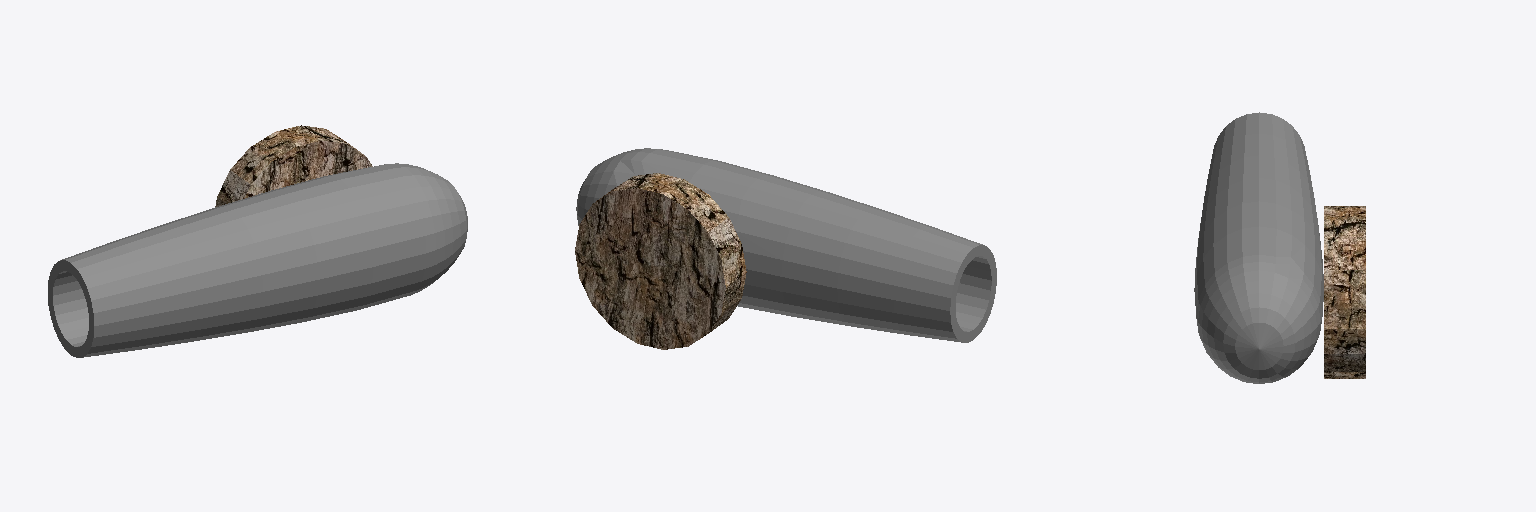
3 views of the same model, side by side, from view 1: azimuth 30°, elevation 25°; view 2: azimuth 150°, elevation 25°; view 3: azimuth 270°, elevation 25° (orthographic).
Parts seen in each view (by area): view 1: Cannon, Base; view 2: Cannon, Base; view 3: Cannon, Base.
Part boxes in pixels (bbox=[...]): Cannon: bbox=[48, 163, 467, 357]; Base: bbox=[215, 125, 372, 206]; Cannon: bbox=[576, 148, 996, 342]; Base: bbox=[575, 173, 746, 349]; Cannon: bbox=[1194, 112, 1323, 383]; Base: bbox=[1324, 206, 1365, 378].
Size of the model in its own units: 36.18 by 13.78 by 13.73.
2 materials, 1 textured.